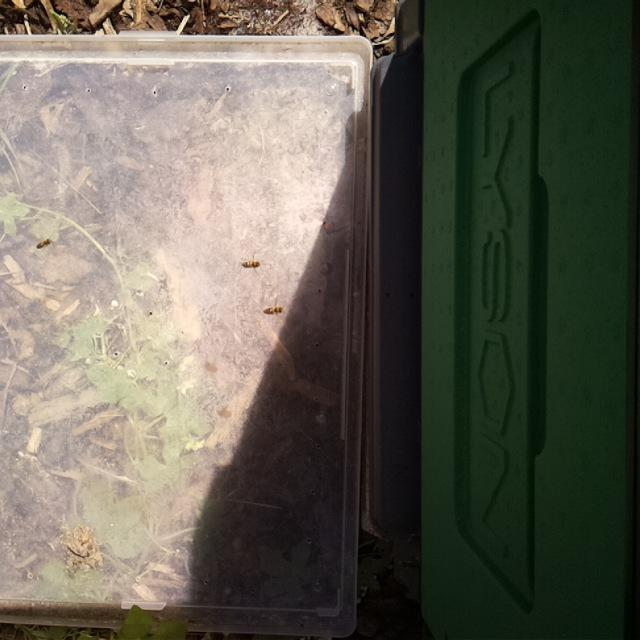worker-bee: (32, 234, 59, 257), (262, 302, 288, 319), (241, 255, 264, 271)
